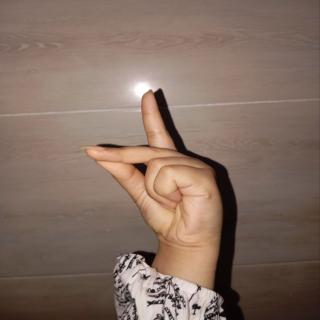TAA: (76, 85, 245, 264)
